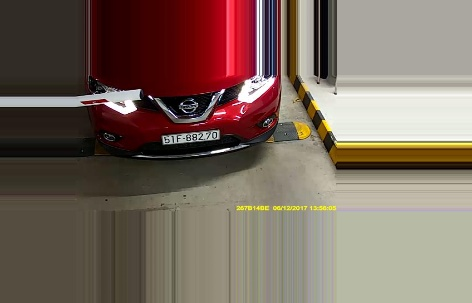plate: (158, 129, 220, 143)
